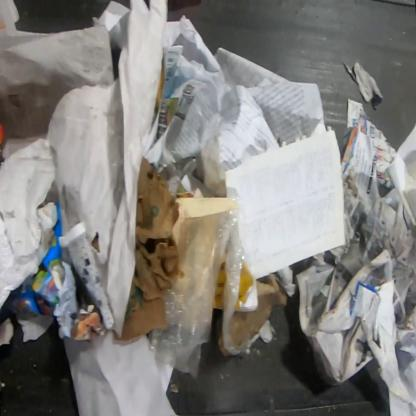cardboard: (121, 157, 184, 342), (231, 274, 288, 346)
soft_plastic: (148, 194, 252, 380)
